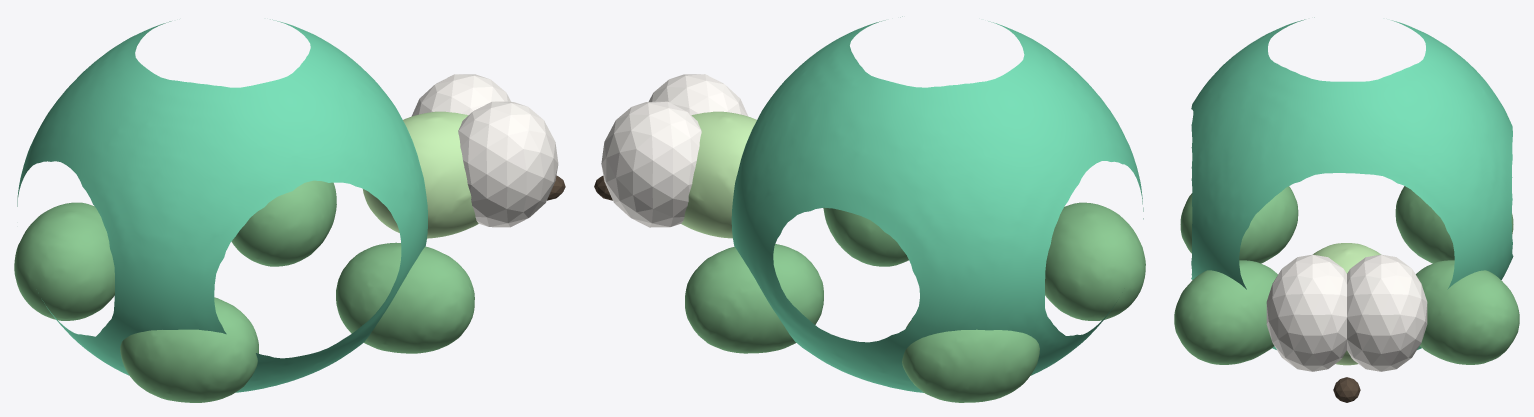
The model's file is turtle.glb.
3 renders of one model, left to right at view 1: azimuth 30°, elevation 25°; view 2: azimuth 150°, elevation 25°; view 3: azimuth 270°, elevation 25°, orthographic. The views are drawn at different scales.
Visible parts, largest first — view 1: body, flipperFRMesh, eyeLWhite, flipperBLMesh, flipperBRMesh, head, flipperFLMesh, eyeRWhite; view 2: body, flipperFLMesh, eyeRWhite, flipperBRMesh, flipperBLMesh, head, flipperFRMesh, eyeLWhite; view 3: body, flipperFLMesh, flipperFRMesh, eyeLWhite, eyeRWhite, flipperBRMesh, flipperBLMesh, head, nose.
Part boxes in pixels (<box>): body: <box>17,19,427,392</box>; flipperFRMesh: <box>336,242,474,353</box>; eyeLWhite: <box>458,101,558,227</box>; flipperBLMesh: <box>14,202,114,320</box>; flipperBRMesh: <box>120,297,258,402</box>; head: <box>363,111,478,238</box>; flipperFLMesh: <box>231,180,336,266</box>; eyeRWhite: <box>411,74,511,116</box>; body: <box>731,16,1143,392</box>; flipperFLMesh: <box>685,244,823,353</box>; eyeRWhite: <box>601,101,701,227</box>; flipperBRMesh: <box>1045,202,1145,320</box>; flipperBLMesh: <box>902,321,1039,402</box>; head: <box>681,111,756,238</box>; flipperFRMesh: <box>823,207,908,266</box>; eyeLWhite: <box>648,74,748,116</box>; body: <box>1191,17,1513,349</box>; flipperFLMesh: <box>1416,260,1519,364</box>; flipperFRMesh: <box>1174,260,1277,364</box>; eyeLWhite: <box>1266,254,1346,371</box>; eyeRWhite: <box>1347,254,1427,371</box>; flipperBRMesh: <box>1180,186,1298,263</box>; flipperBLMesh: <box>1395,186,1513,263</box>; head: <box>1313,243,1380,365</box>; nose: <box>1333,377,1360,402</box>.
Size of the model in its own units: 1.69 by 1.04 by 1.11.
